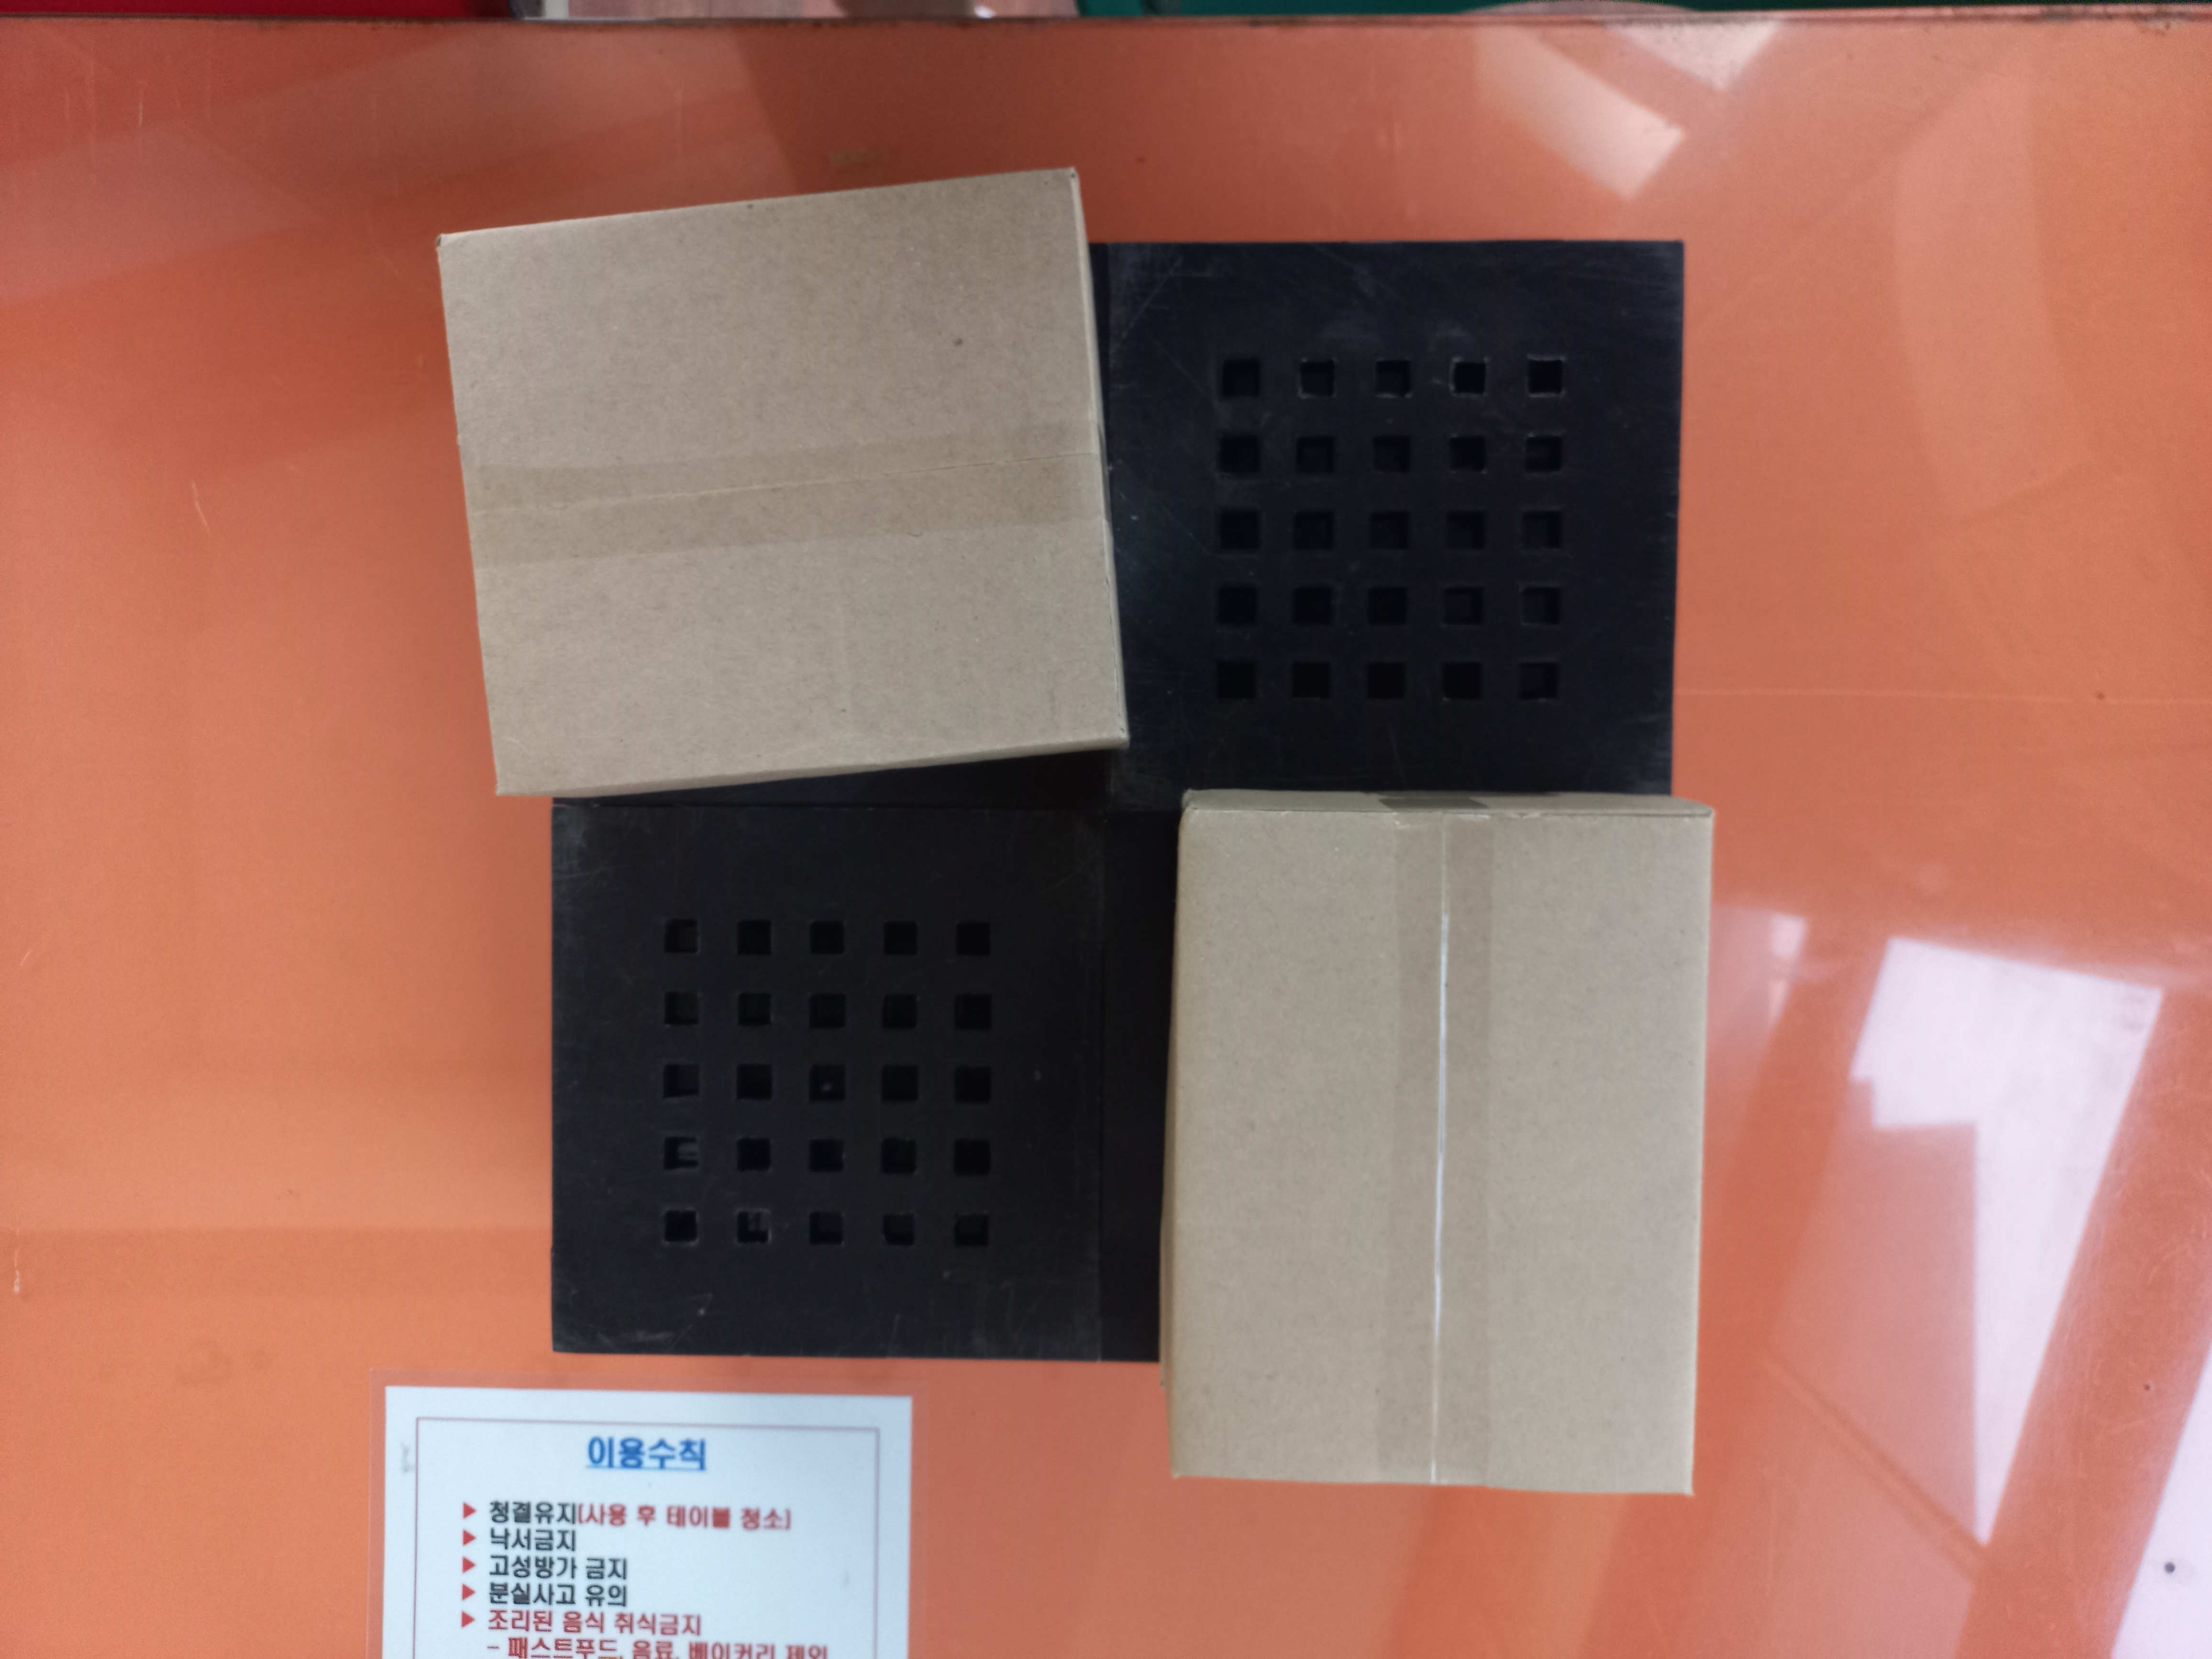box: (425, 155, 1139, 810), (1158, 779, 1714, 1492)
